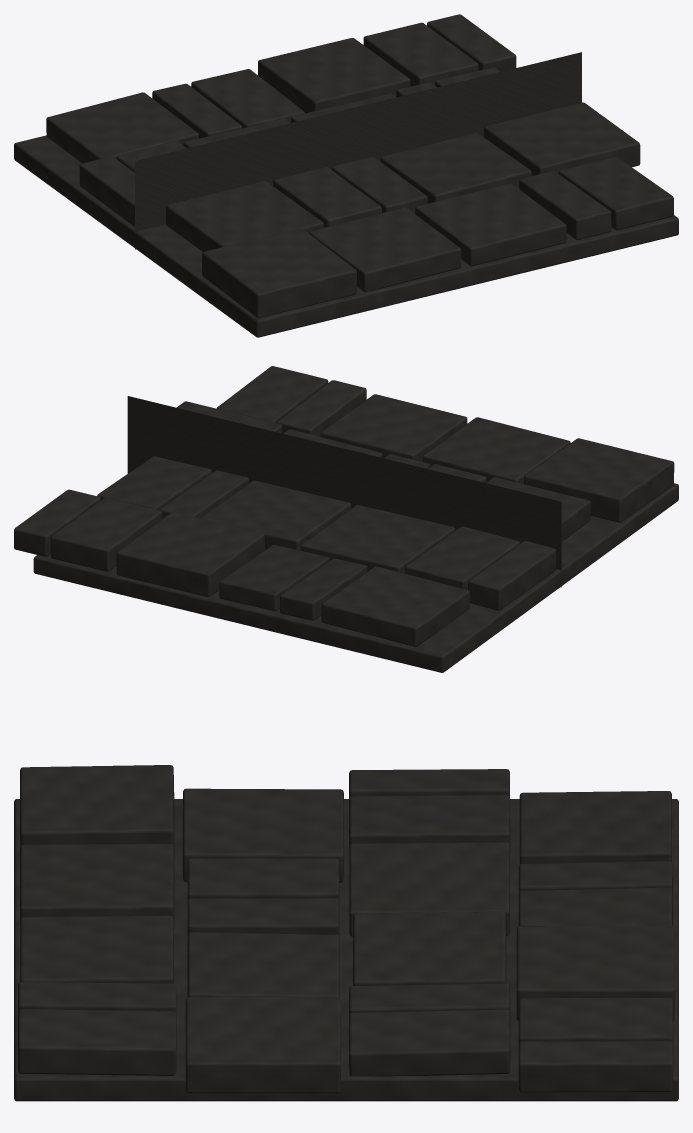
Rendered from Flagstones_CrackedTile_MultiLOD.glb.
3 views of the same model, one above another, from view 1: azimuth 30°, elevation 25°; view 2: azimuth 150°, elevation 25°; view 3: azimuth 270°, elevation 25° (orthographic). The views are drawn at different scales.
Parts seen in each view (by area): view 1: Flagstones_CrackedTile_LOD0, Flagstones_CrackedTile_Impostor; view 2: Flagstones_CrackedTile_LOD0, Flagstones_CrackedTile_Impostor; view 3: Flagstones_CrackedTile_LOD0.
Boxes of the visible parts, <box> form: Flagstones_CrackedTile_LOD0: <box>14,14,678,337</box>; Flagstones_CrackedTile_Impostor: <box>135,52,581,249</box>; Flagstones_CrackedTile_LOD0: <box>14,366,678,672</box>; Flagstones_CrackedTile_Impostor: <box>127,396,561,587</box>; Flagstones_CrackedTile_LOD0: <box>14,765,678,1101</box>.
Size of what is drawn, in the model's own units: 2.64 by 0.5 by 2.5.
Materials: 1 (1 with a texture image).
